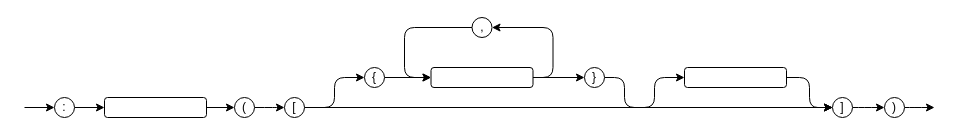
This 960x135 diagram has some shape labels left out. The shapes that lost their labels are listed below. From the top down, each one's box as (x1, y1, x2, y2) in pixels, then its label:
(430, 66, 533, 88): attribute name
(684, 66, 786, 88): filter template
(104, 96, 206, 118): lookup name
